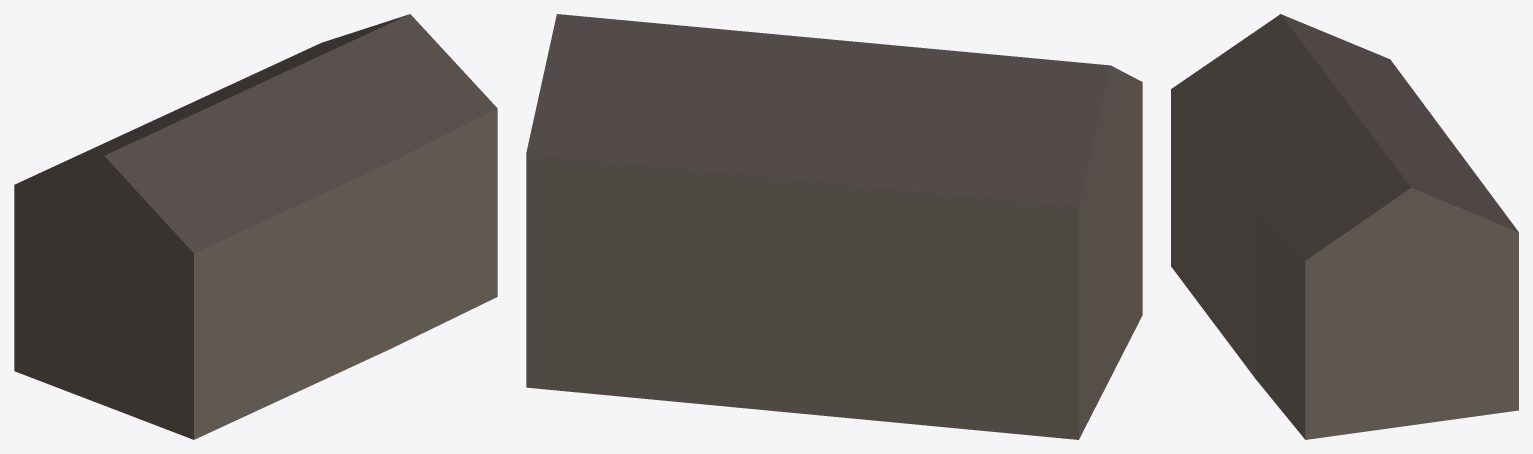
The picture shows the model from 3 angles, left to right: view 1: azimuth 30°, elevation 25°; view 2: azimuth 150°, elevation 25°; view 3: azimuth 270°, elevation 25°; orthographic projection. The views are drawn at different scales.
Parts seen in each view (by area): view 1: HP-w1198840836; view 2: HP-w1198840836; view 3: HP-w1198840836.
Boxes of the visible parts, bbox=[...] form: HP-w1198840836: bbox=[14, 14, 497, 439]; HP-w1198840836: bbox=[526, 14, 1142, 439]; HP-w1198840836: bbox=[1171, 14, 1518, 439].
Bounding box in the file's own units: 14.77 × 8.04 × 10.68.
